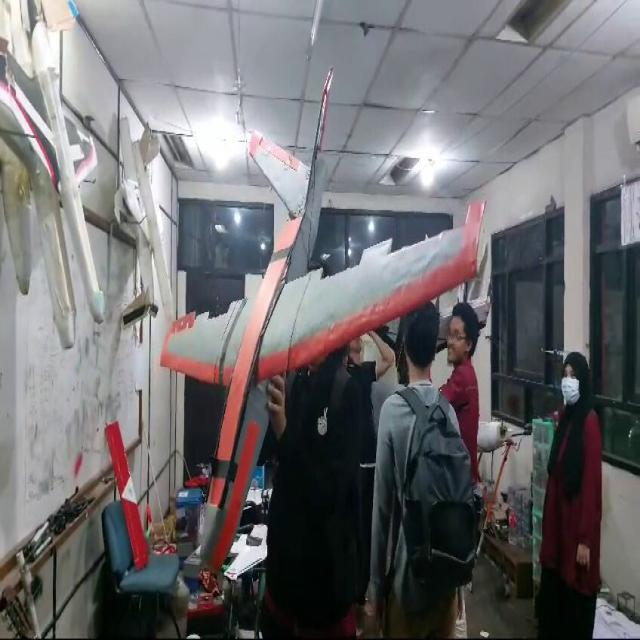plane: (158, 64, 490, 580)
